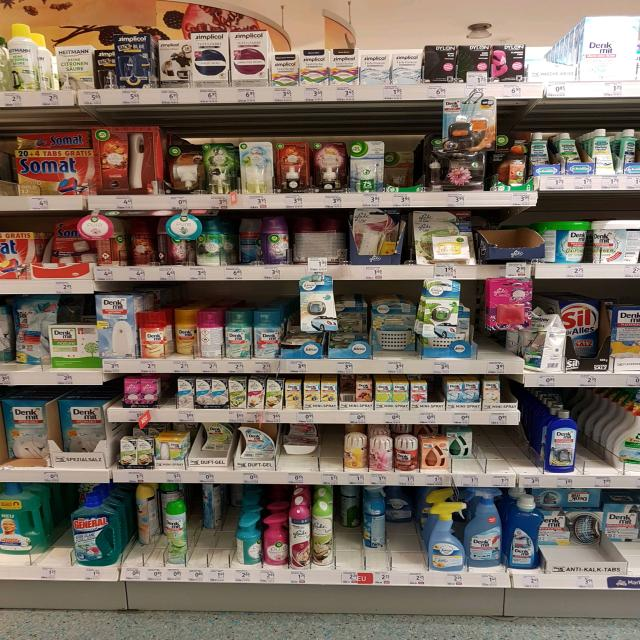unorganised: (536, 490, 605, 552), (1, 401, 48, 465), (525, 308, 568, 371), (55, 400, 105, 453), (47, 214, 94, 266), (375, 304, 418, 357), (541, 218, 590, 264), (593, 220, 640, 261), (155, 37, 192, 88), (363, 487, 390, 550), (194, 306, 225, 358), (235, 212, 264, 266), (235, 515, 263, 565), (385, 147, 418, 189), (134, 484, 156, 545), (199, 483, 223, 534), (128, 220, 155, 264), (285, 423, 320, 454), (174, 309, 196, 357), (201, 423, 232, 457), (389, 484, 412, 523), (329, 326, 365, 348), (448, 432, 474, 462), (341, 487, 359, 527), (283, 330, 314, 351), (337, 380, 355, 404)
